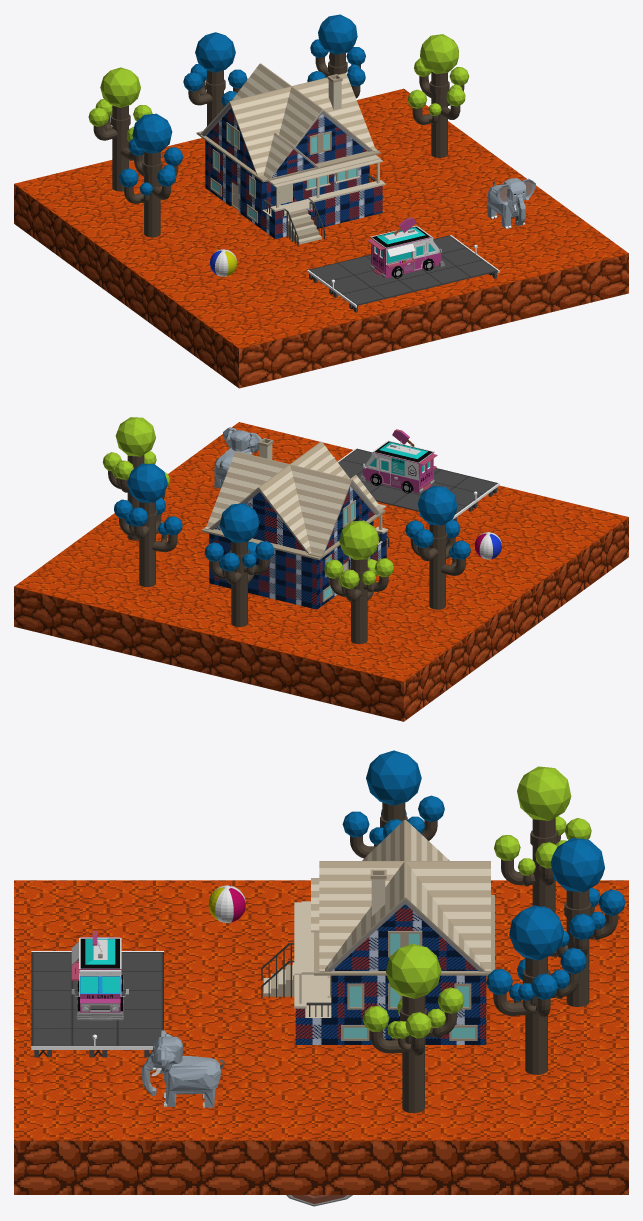
The picture shows the model from 3 angles, top to bottom: view 1: azimuth 30°, elevation 25°; view 2: azimuth 150°, elevation 25°; view 3: azimuth 270°, elevation 25°; orthographic projection. The views are drawn at different scales.
Visible parts, largest first — view 1: Cube.001, Cube.171, VEHICLES_ICE_CREAM_TRUCK, ANIMAL_ELEFANTE, OBJRANDOM_BEACHBALL; view 2: Cube.001, Cube.171, VEHICLES_ICE_CREAM_TRUCK, ANIMAL_ELEFANTE, OBJRANDOM_BEACHBALL; view 3: Cube.001, Cube.171, VEHICLES_ICE_CREAM_TRUCK, ANIMAL_ELEFANTE, OBJRANDOM_BEACHBALL.
Boxes of the visible parts, left/top/right/bottom form: Cube.001: left=14, top=14, right=628, bottom=388; Cube.171: left=196, top=63, right=385, bottom=245; VEHICLES_ICE_CREAM_TRUCK: left=367, top=217, right=445, bottom=278; ANIMAL_ELEFANTE: left=487, top=178, right=535, bottom=228; OBJRANDOM_BEACHBALL: left=210, top=249, right=237, bottom=276; Cube.001: left=14, top=417, right=628, bottom=721; Cube.171: left=201, top=438, right=389, bottom=609; VEHICLES_ICE_CREAM_TRUCK: left=360, top=429, right=437, bottom=493; ANIMAL_ELEFANTE: left=214, top=427, right=261, bottom=488; OBJRANDOM_BEACHBALL: left=474, top=532, right=501, bottom=559; Cube.001: left=14, top=750, right=628, bottom=1194; Cube.171: left=261, top=820, right=494, bottom=1044; VEHICLES_ICE_CREAM_TRUCK: left=71, top=931, right=128, bottom=1020; ANIMAL_ELEFANTE: left=142, top=1030, right=224, bottom=1107; OBJRANDOM_BEACHBALL: left=208, top=885, right=245, bottom=922.
Bounding box in the file's own units: 4000 × 2380 × 4000.
45 materials, 5 textured.
